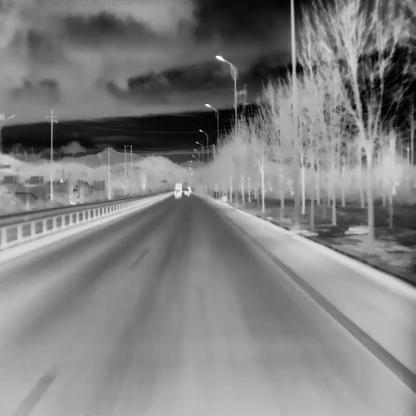car: (173, 188, 180, 198), (184, 187, 188, 194)
truck: (175, 182, 181, 194)
